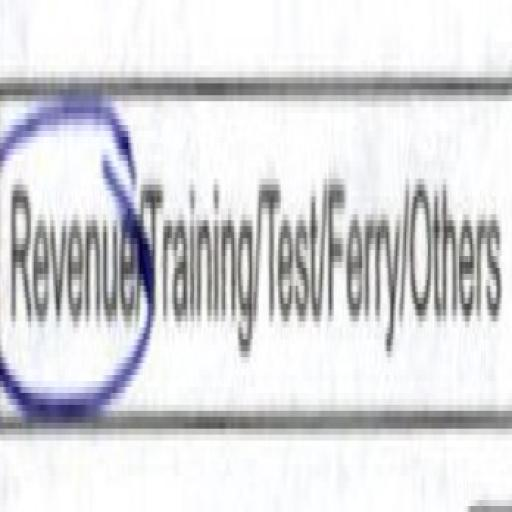check: (0, 60, 144, 442)
